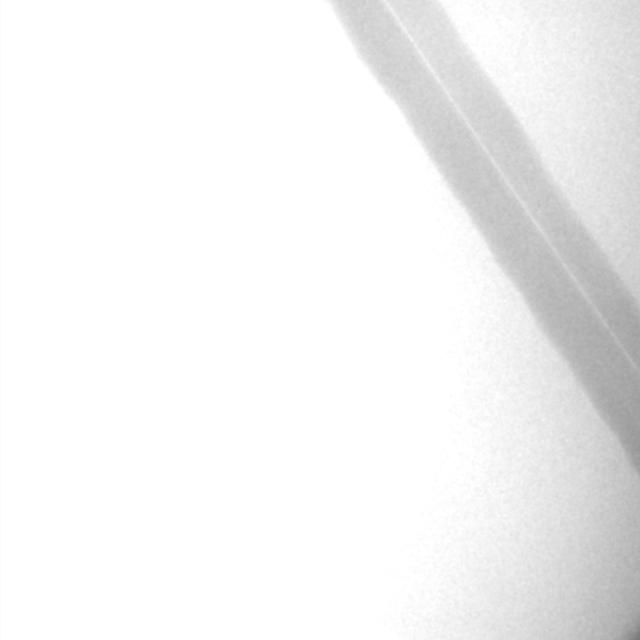broken arc: (388, 4, 636, 365)
